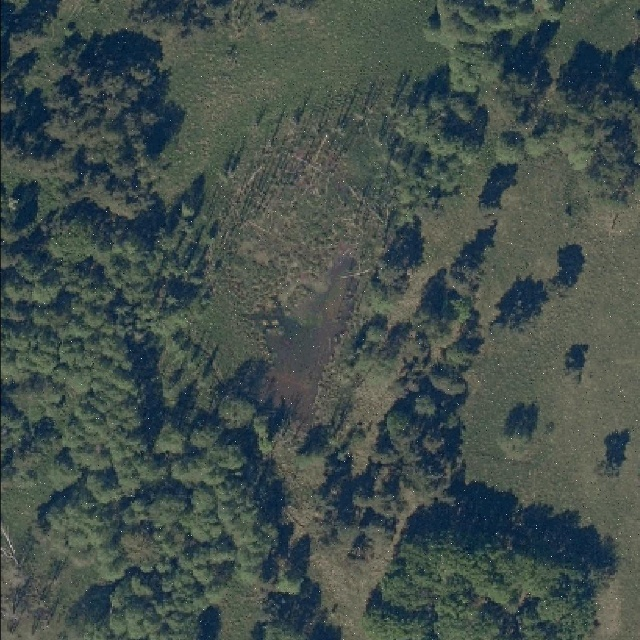vegetation: (2, 2, 343, 638), (299, 0, 636, 564), (361, 486, 619, 638)
